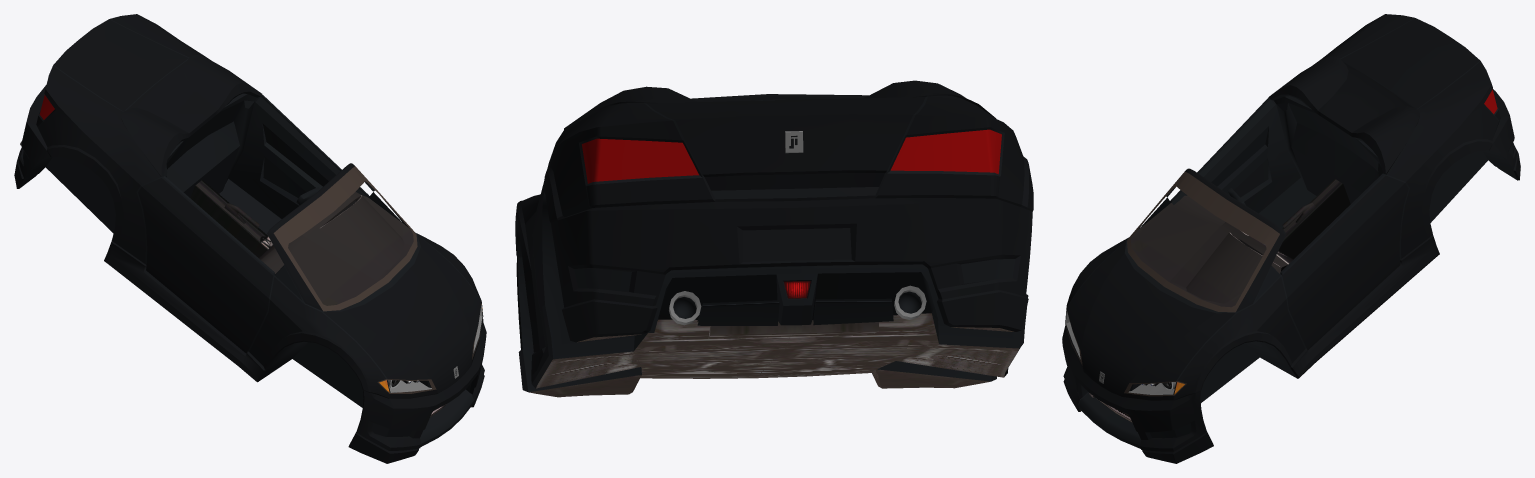
Rendered from Car01.glb.
3 renders of one model, left to right at view 1: azimuth 30°, elevation 25°; view 2: azimuth 150°, elevation 25°; view 3: azimuth 270°, elevation 25°, orthographic. The views are drawn at different scales.
Parts seen in each view (by area): view 1: node_id49, node_id39, node_id57, node_id45, node_id33; view 2: node_id49, node_id39, node_id51, node_id31, node_id33; view 3: node_id49, node_id39, node_id57, node_id45, node_id33.
Part boxes in pixels (left/top/right/bottom): node_id49: left=14, top=14, right=486, bottom=463; node_id39: left=19, top=19, right=483, bottom=446; node_id57: left=190, top=180, right=413, bottom=305; node_id45: left=273, top=166, right=482, bottom=393; node_id33: left=20, top=141, right=482, bottom=392; node_id49: left=515, top=80, right=1033, bottom=391; node_id39: left=516, top=96, right=1020, bottom=392; node_id51: left=529, top=313, right=1018, bottom=397; node_id31: left=582, top=129, right=1001, bottom=183; node_id33: left=669, top=131, right=926, bottom=325; node_id49: left=1062, top=14, right=1520, bottom=463; node_id39: left=1065, top=18, right=1517, bottom=448; node_id57: left=1131, top=179, right=1350, bottom=307; node_id45: left=1065, top=171, right=1279, bottom=396; node_id33: left=1066, top=310, right=1175, bottom=394.
Bounding box in the file's own units: 0.5259 × 0.4384 × 0.5948.
14 materials, 14 textured.
